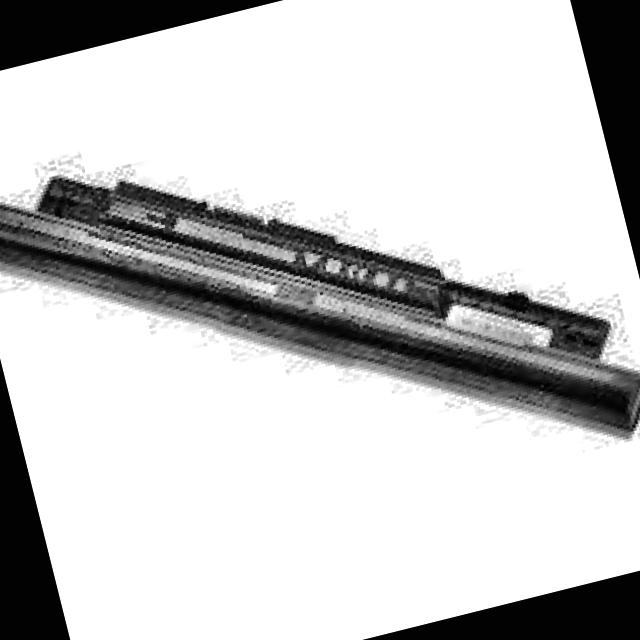Battery: (0, 44, 640, 589)
